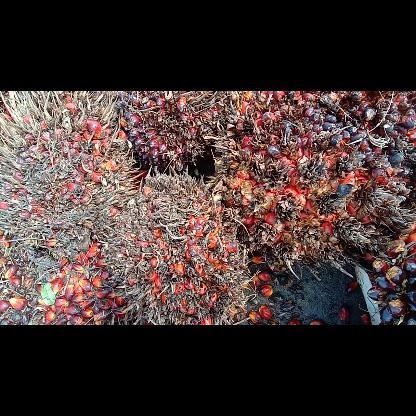Terlalu masak: (212, 91, 414, 279), (0, 90, 142, 272), (102, 164, 252, 324), (116, 90, 260, 174)
